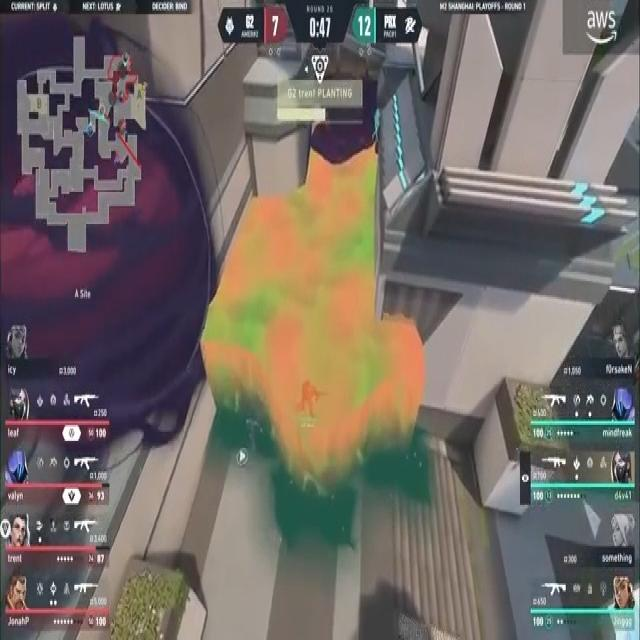smoke: (5, 82, 211, 416)
